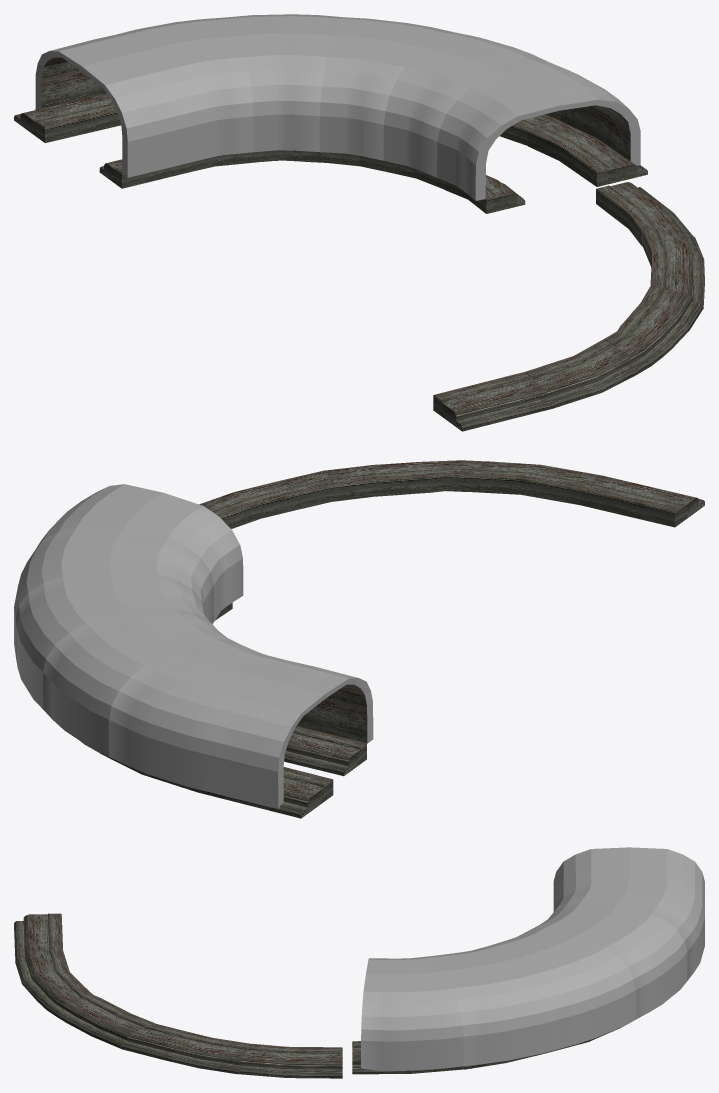
Rendered from CurveSewerSideWalk.fbx.
The picture shows the model from 3 angles, top to bottom: view 1: azimuth 30°, elevation 25°; view 2: azimuth 150°, elevation 25°; view 3: azimuth 270°, elevation 25°; orthographic projection. The views are drawn at different scales.
Parts seen in each view (by area): view 1: polySurface119, polySurface139, polySurface138, polySurface140; view 2: polySurface119, polySurface139, polySurface140, polySurface138; view 3: polySurface119, polySurface139, polySurface138.
Part boxes in pixels (x1,y1,x2,y2): polySurface119: (35,14,640,200); polySurface139: (433,182,704,431); polySurface138: (14,93,647,186); polySurface140: (99,150,525,213); polySurface119: (14,484,373,808); polySurface139: (199,460,704,528); polySurface140: (215,602,366,776); polySurface138: (82,742,333,818); polySurface119: (361,847,704,1070); polySurface139: (14,913,342,1078); polySurface138: (352,1017,639,1074).
Bounding box in the file's own units: 29.18 × 6.2 × 50.56.
3 materials, 1 textured.
